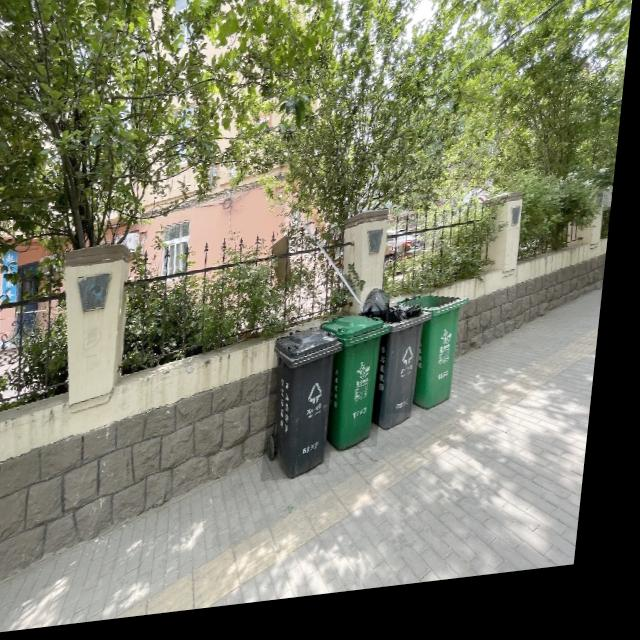garbage_bin: (272, 333, 352, 490), (318, 320, 398, 464), (396, 300, 476, 425)
overflow: (357, 291, 442, 443)
